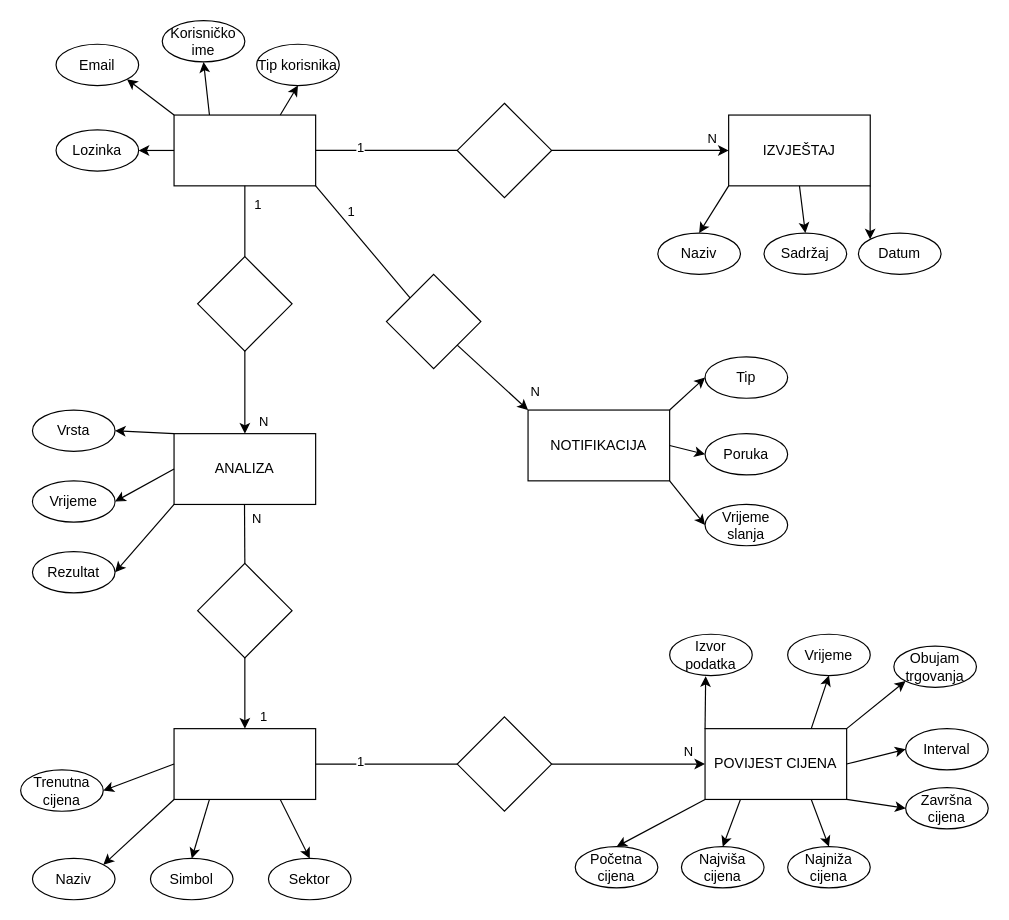
The diagram is 1009 pixels wide and 920 high, and some of its shapes have lost their labels. Each missing label, with the centre of its shape:
DIONICA: (x=244, y=763)
IMA: (x=504, y=763)
IZVRŠAVA: (x=244, y=303)
KORISNIK: (x=244, y=150)
KREIRA: (x=504, y=150)
ODNOSI SE NA: (x=244, y=610)
PRIMA: (x=433, y=321)
